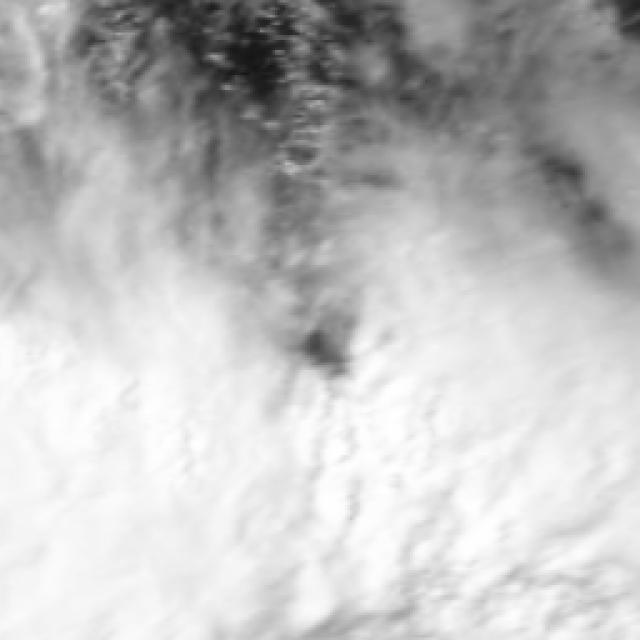CB: (9, 390, 630, 578)
